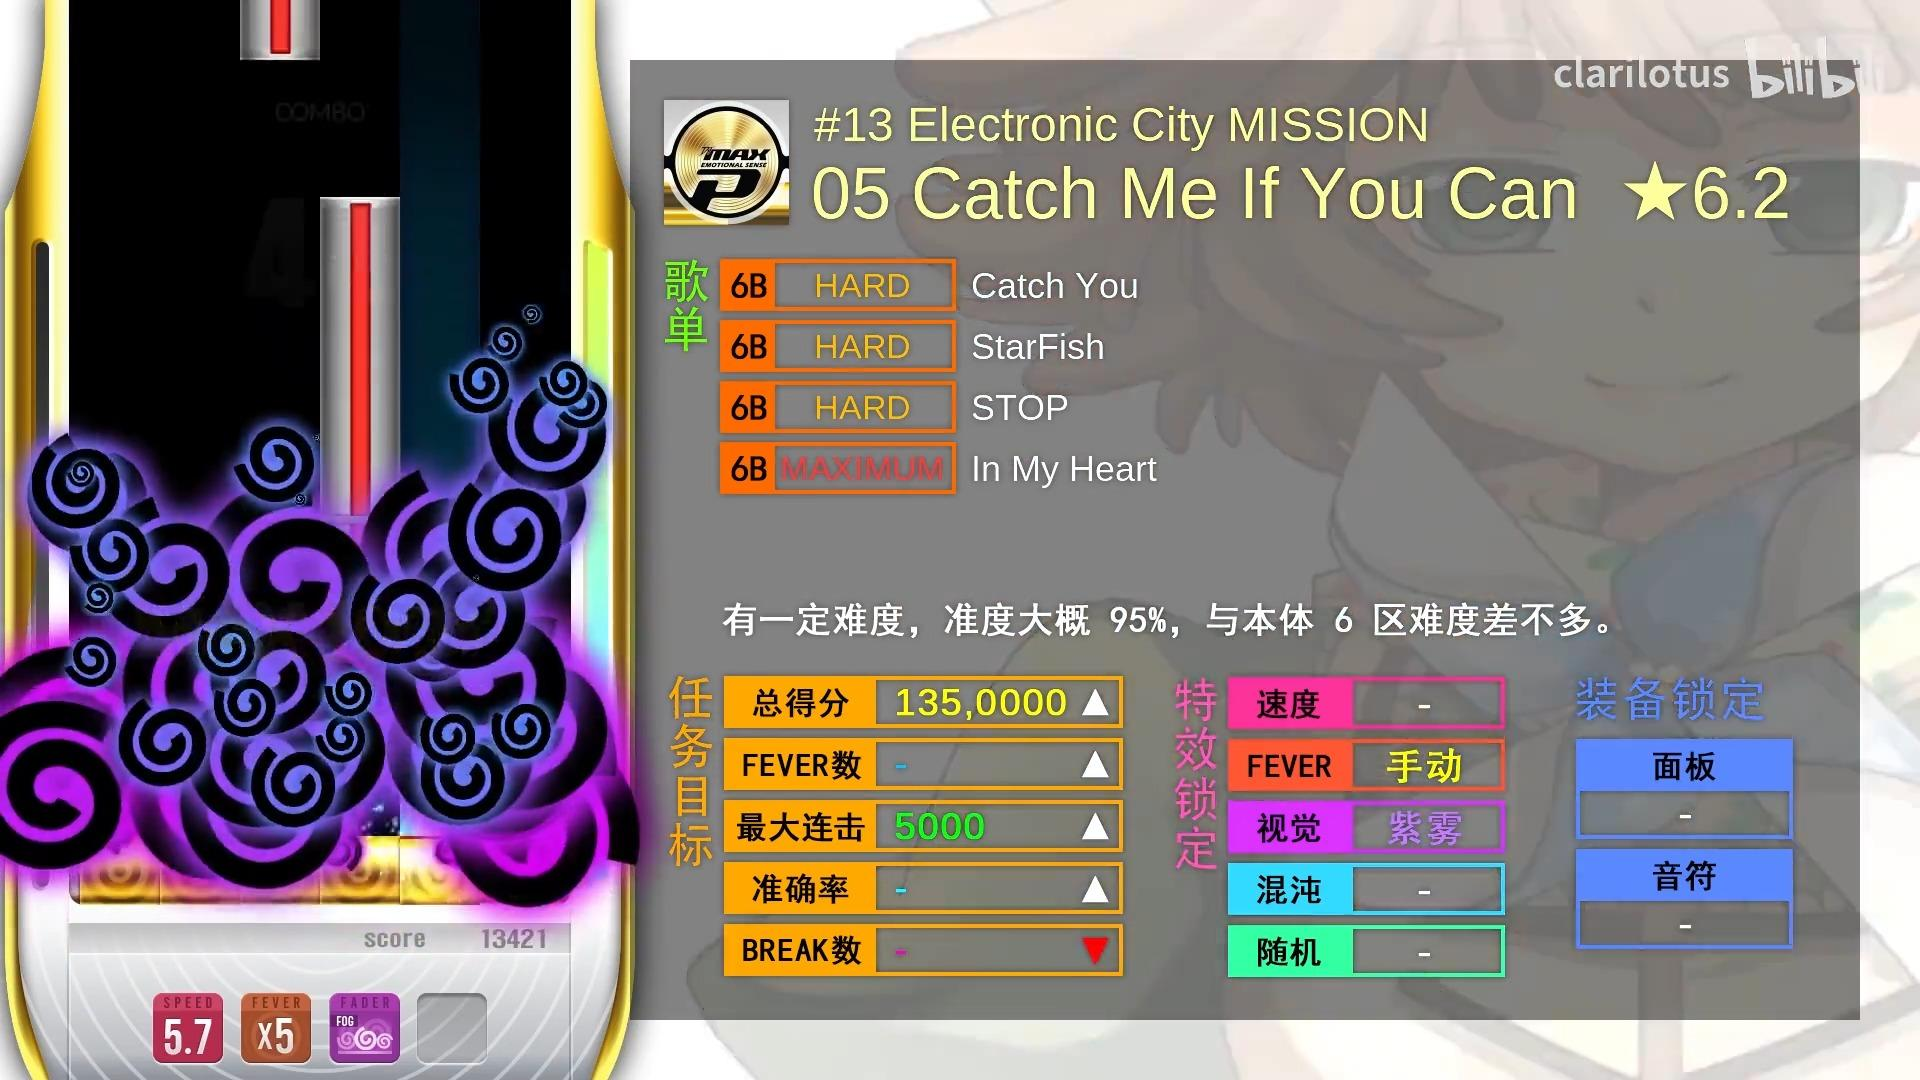hold-end: (319, 195, 401, 223)
hold-start: (240, 37, 320, 59)
